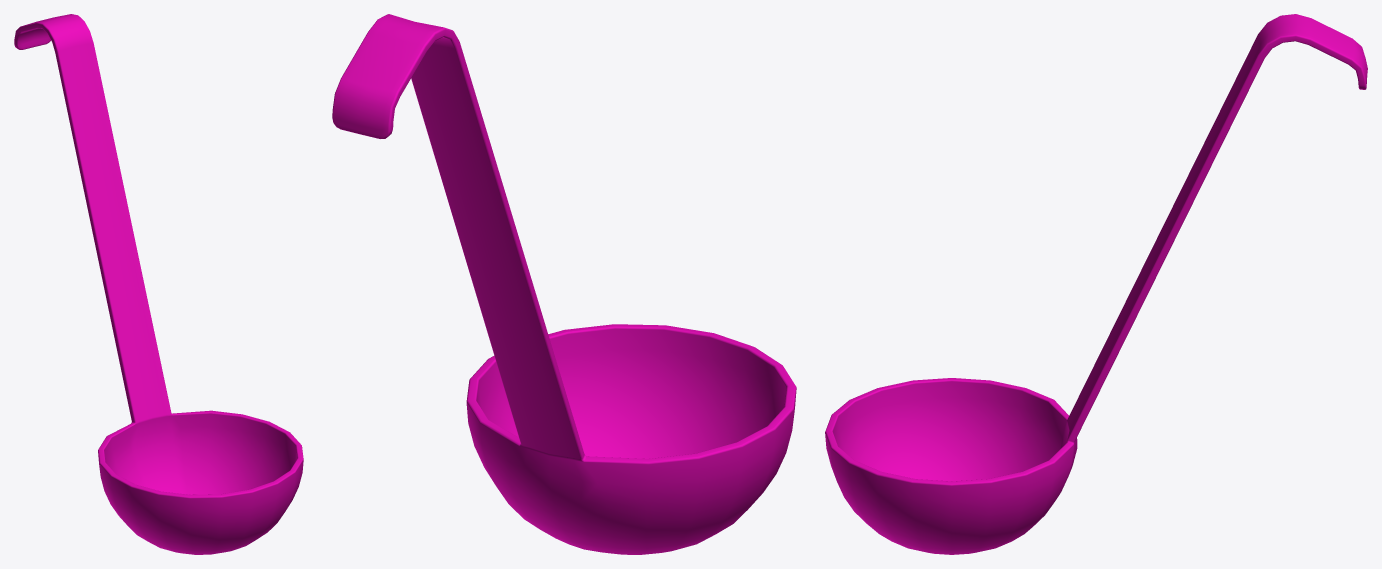
The model's file is pink_spoon.dae.
3 renders of one model, left to right at view 1: azimuth 30°, elevation 25°; view 2: azimuth 150°, elevation 25°; view 3: azimuth 270°, elevation 25°, orthographic. The views are drawn at different scales.
Parts seen in each view (by area): view 1: Ladle Pink; view 2: Ladle Pink; view 3: Ladle Pink.
Part boxes in pixels (x1,y1,x2,y2): Ladle Pink: (14, 14, 303, 554); Ladle Pink: (332, 14, 796, 554); Ladle Pink: (825, 14, 1367, 554).
Bounding box in the file's own units: 0.0908 × 0.1944 × 0.2031.
